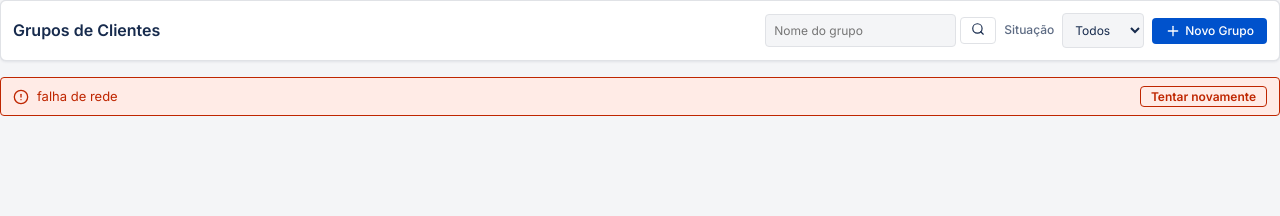
Scenario: GruposClientes › mostra o erro sem o vazio e tenta de novo
expect the text "falha de rede" is shown: met, box [37,87,118,106]
Click the button "Tentar novamente": (1203, 96) [1140,86,1267,107]
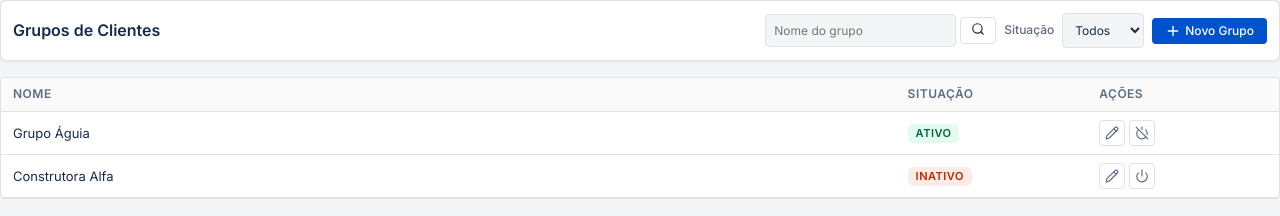
expect the text "Grupo Águia" is shown: met, box [1,111,896,154]
